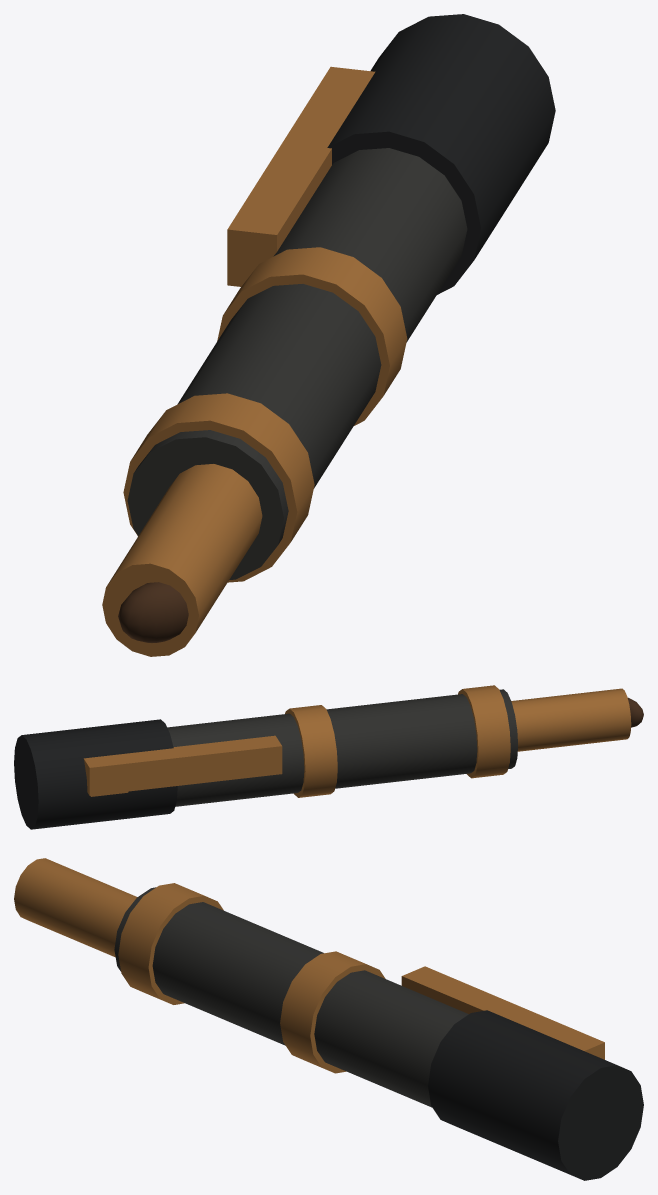
Rendered from CMU3DCMPenFountainInheritedMiscCloud.glb.
3 views of the same model, one above another, from view 1: azimuth 30°, elevation 25°; view 2: azimuth 150°, elevation 25°; view 3: azimuth 270°, elevation 25° (orthographic). The views are drawn at different scales.
Visible parts, largest first — view 1: continuous black pen barrel, upper cap, tapered nib shoulder, side pocket clip, gold barrel ring 0, gold barrel ring 1, writing tip; view 2: continuous black pen barrel, upper cap, side pocket clip, tapered nib shoulder, gold barrel ring 0, gold barrel ring 1, writing tip; view 3: continuous black pen barrel, upper cap, tapered nib shoulder, gold barrel ring 1, gold barrel ring 0, side pocket clip.
Part boxes in pixels (left/top/right/bottom): continuous black pen barrel: left=127, top=148, right=467, bottom=579; upper cap: left=327, top=14, right=555, bottom=294; tapered nib shoulder: left=102, top=464, right=262, bottom=656; side pocket clip: left=227, top=66, right=375, bottom=286; gold barrel ring 0: left=123, top=393, right=314, bottom=582; gold barrel ring 1: left=217, top=247, right=407, bottom=425; writing tip: left=118, top=582, right=188, bottom=642; continuous black pen barrel: left=167, top=689, right=517, bottom=806; upper cap: left=14, top=719, right=177, bottom=829; side pocket clip: left=83, top=735, right=282, bottom=795; tapered nib shoulder: left=511, top=688, right=631, bottom=751; gold barrel ring 0: left=458, top=685, right=510, bottom=778; gold barrel ring 1: left=285, top=705, right=337, bottom=797; writing tip: left=627, top=697, right=643, bottom=727; continuous black pen barrel: left=114, top=887, right=468, bottom=1107; upper cap: left=428, top=1010, right=643, bottom=1180; tapered nib shoulder: left=14, top=858, right=137, bottom=957; gold barrel ring 1: left=280, top=951, right=385, bottom=1073; gold barrel ring 0: left=118, top=883, right=223, bottom=1004; side pocket clip: left=401, top=966, right=604, bottom=1059.
Size of the model in its own units: 0.3801 by 0.074 by 0.3835.
